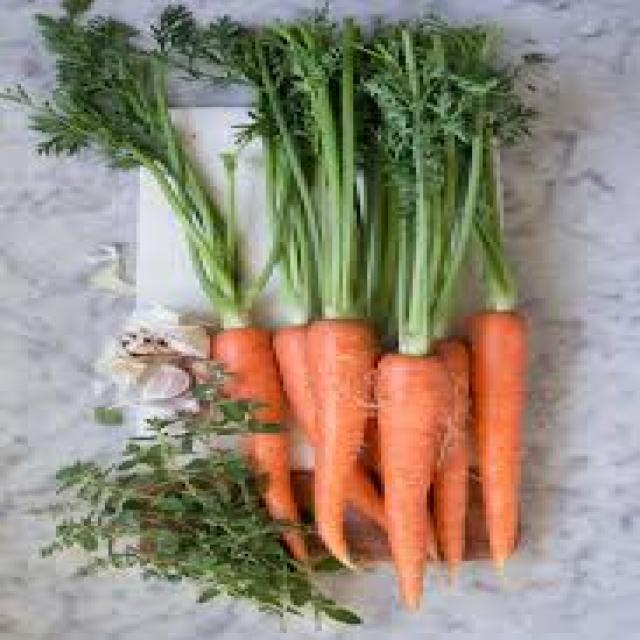Carrot: (372, 351, 450, 618)
